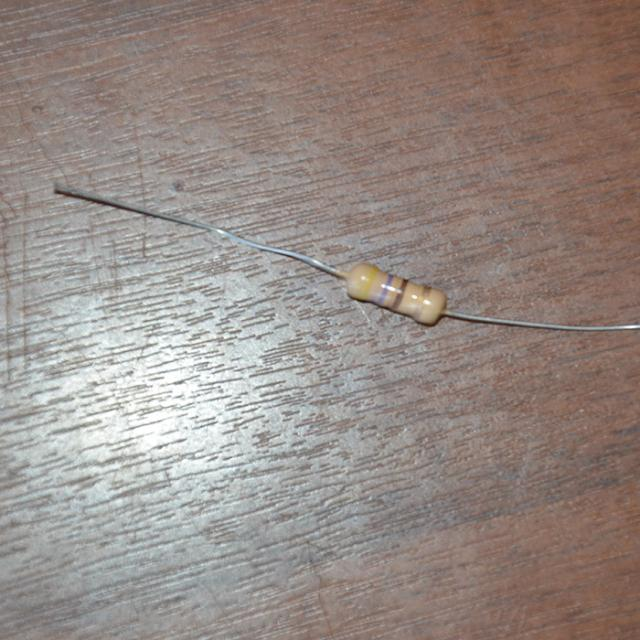brown: (391, 278, 408, 310)
gold: (415, 284, 431, 318)
resistor: (329, 245, 460, 337)
violet: (379, 273, 393, 304)
yellow: (360, 265, 377, 299)
